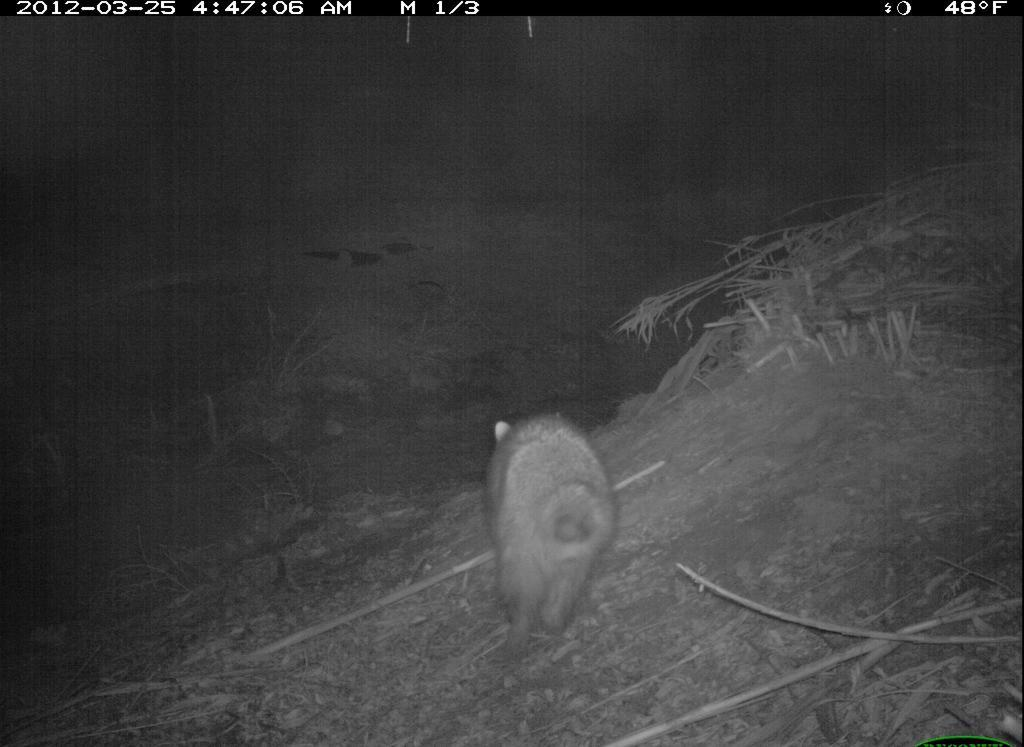raccoon: (483, 395, 626, 665)
